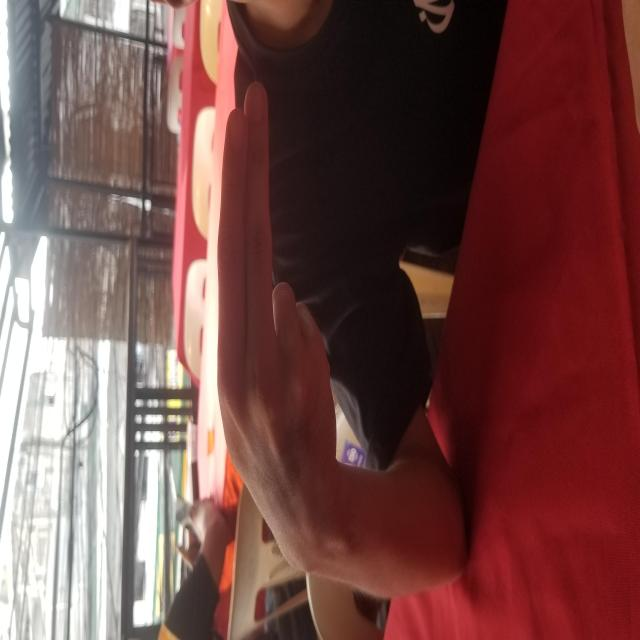H: (56, 214, 562, 340)
